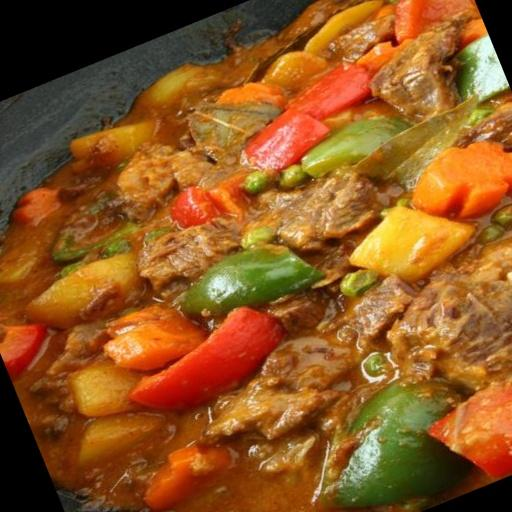pork caldereta: (0, 0, 511, 511)
